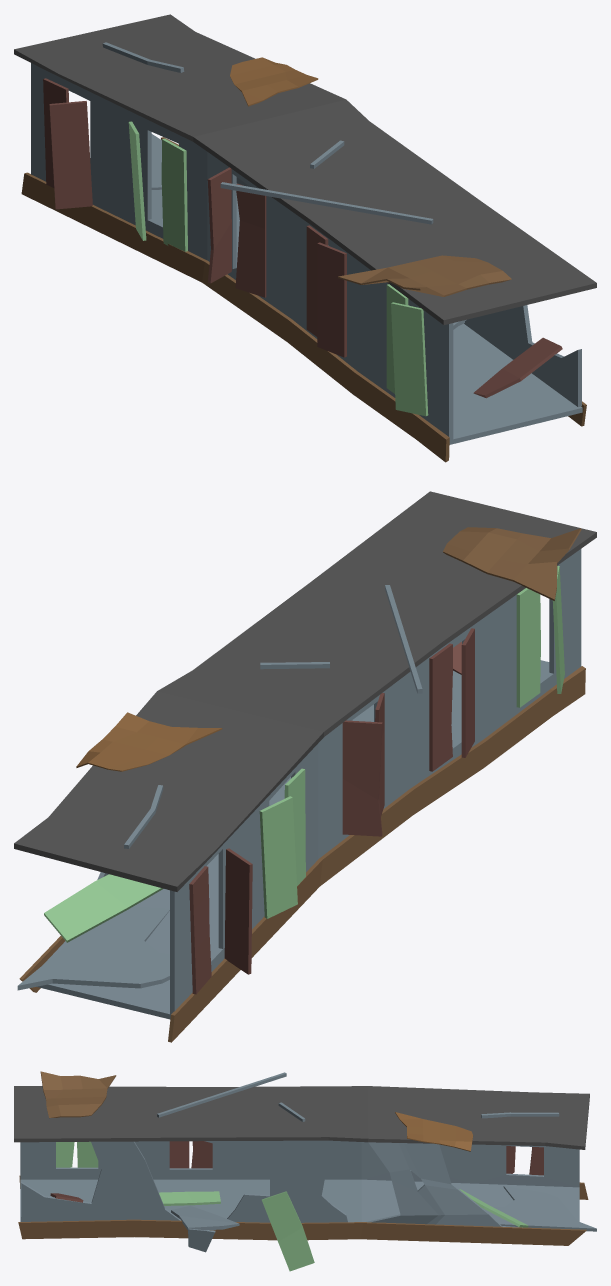
File: Pont_pente.fbx
3 views of the same model, one above another, from view 1: azimuth 30°, elevation 25°; view 2: azimuth 150°, elevation 25°; view 3: azimuth 270°, elevation 25° (orthographic). The views are drawn at different scales.
Visible parts, largest first — view 1: Cube; view 2: Cube; view 3: Cube.
Part boxes in pixels (left/top/right/bottom): Cube: left=14, top=14, right=596, bottom=462; Cube: left=14, top=491, right=596, bottom=1042; Cube: left=14, top=1071, right=596, bottom=1271.
Size of the model in its own units: 632 by 576 by 2095.
